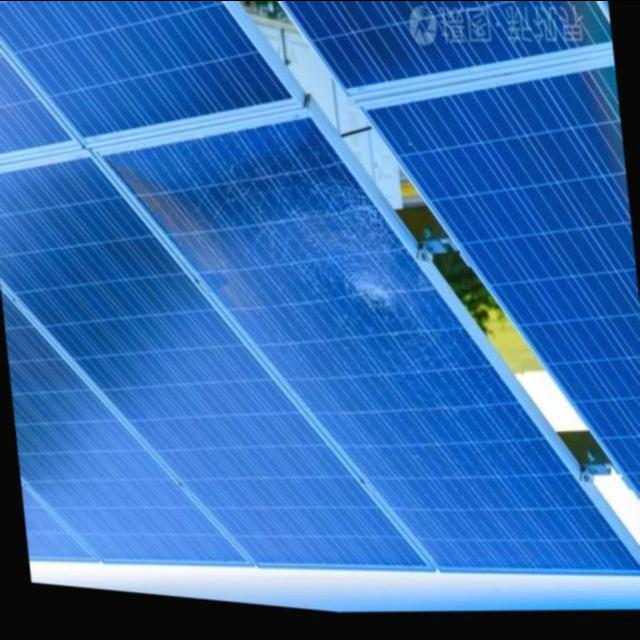cracked: (139, 99, 629, 572)
